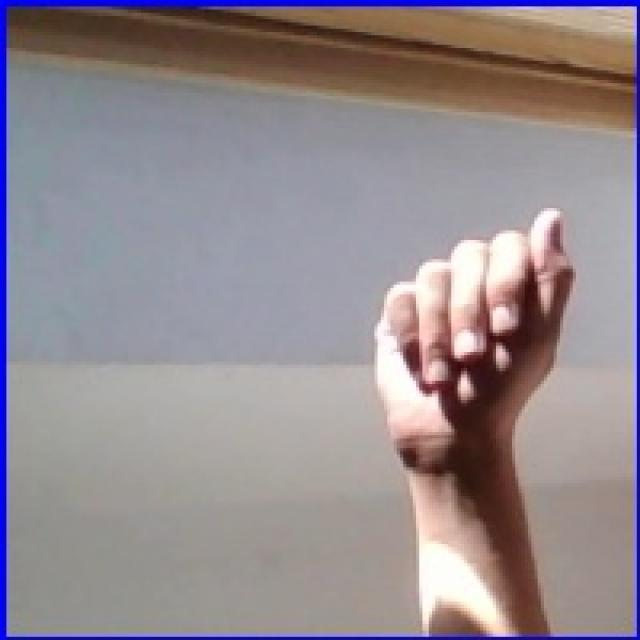Letra A: (341, 201, 601, 523)
